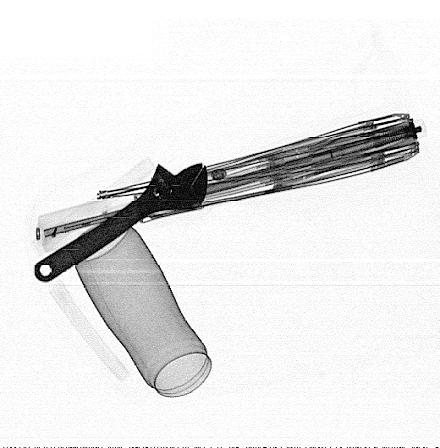Wrench: (33, 162, 208, 284)
